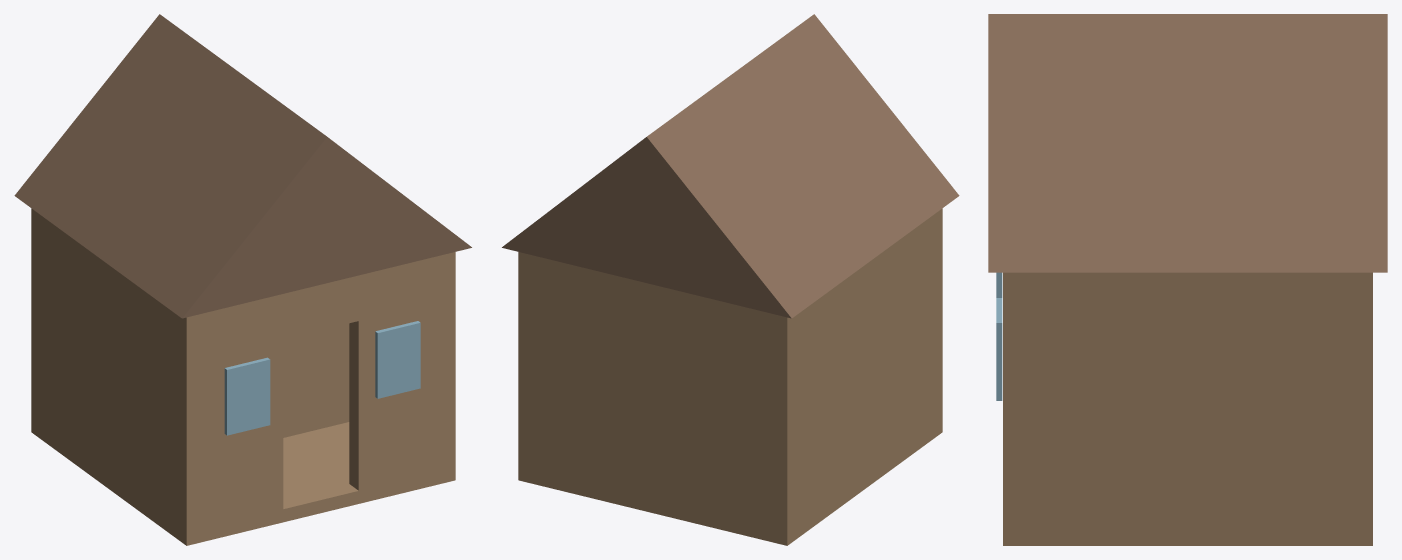
The model's file is cabin.glb.
3 views of the same model, side by side, from view 1: azimuth 30°, elevation 25°; view 2: azimuth 150°, elevation 25°; view 3: azimuth 270°, elevation 25° (orthographic). The views are drawn at different scales.
Visible parts, largest first — view 1: building_0_14, building_0_1, building_0_5, building_0_4, building_0_0, building_0_8, building_0_2, building_0_6, building_0_10, building_0_11; view 2: building_0_14, building_0_3, building_0_1, building_0_0, building_0_2, building_0_7; view 3: building_0_14, building_0_2, building_0_0, building_0_8, building_0_11.
Part boxes in pixels (x1,y1,x2,y2): building_0_14: [14, 14, 471, 318]; building_0_1: [31, 208, 202, 545]; building_0_5: [349, 256, 439, 503]; building_0_4: [202, 294, 283, 541]; building_0_0: [31, 419, 455, 545]; building_0_8: [283, 323, 349, 437]; building_0_2: [439, 252, 455, 480]; building_0_6: [283, 275, 358, 339]; building_0_10: [224, 357, 270, 435]; building_0_11: [375, 321, 420, 398]; building_0_14: [502, 14, 959, 318]; building_0_3: [534, 256, 771, 540]; building_0_1: [771, 208, 942, 544]; building_0_0: [518, 419, 942, 545]; building_0_2: [518, 252, 534, 479]; building_0_7: [860, 262, 869, 491]; building_0_14: [988, 14, 1387, 272]; building_0_2: [1003, 272, 1372, 545]; building_0_0: [1003, 530, 1372, 545]; building_0_8: [1177, 273, 1198, 545]; building_0_11: [996, 298, 1002, 400].
Size of the model in its own units: 3.24 by 4.06 by 3.24.
